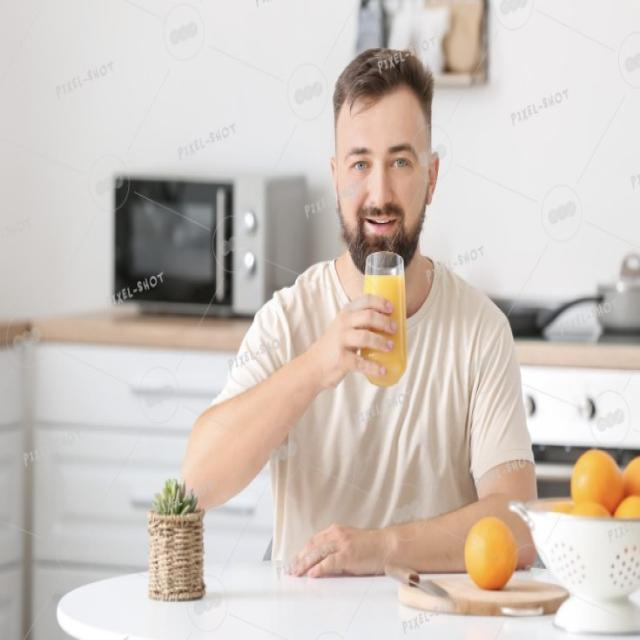eating-person: (184, 37, 640, 615)
